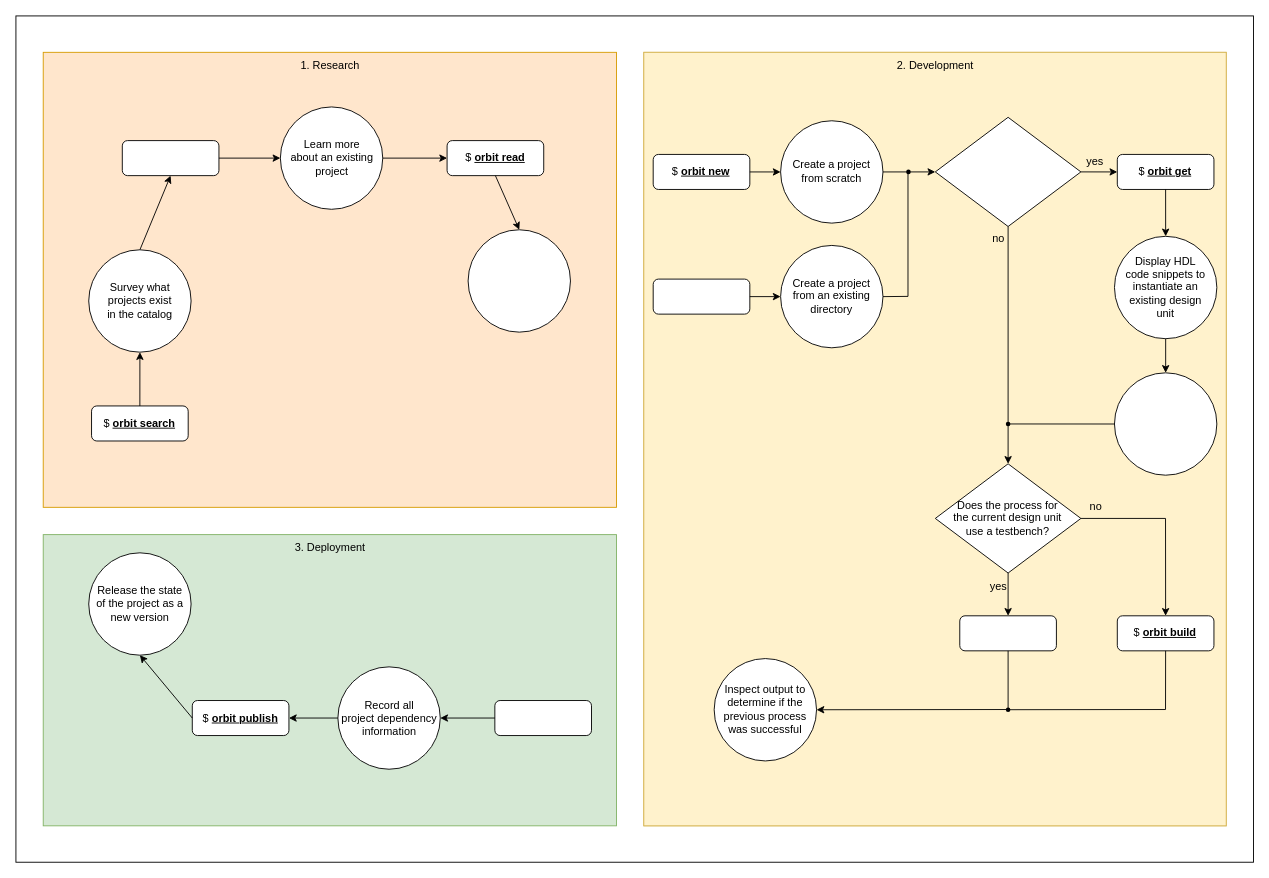
Some shapes in this 1269 by 878 pixel diagram are drawn without their labels. Each missing label, with the centre of its shape:
"$ orbit info" goes at [170,158].
"$ orbit init" goes at [701,296].
"$ orbit lock" goes at [543,718].
"$ orbit test" goes at [1007,633].
"Add the design unit's project to the manifest's dependency list" goes at [1165,423].
"Refer to an existing IP core's source code" goes at [518,280].
"Using a design unit from an existing project?" goes at [1007,171].
